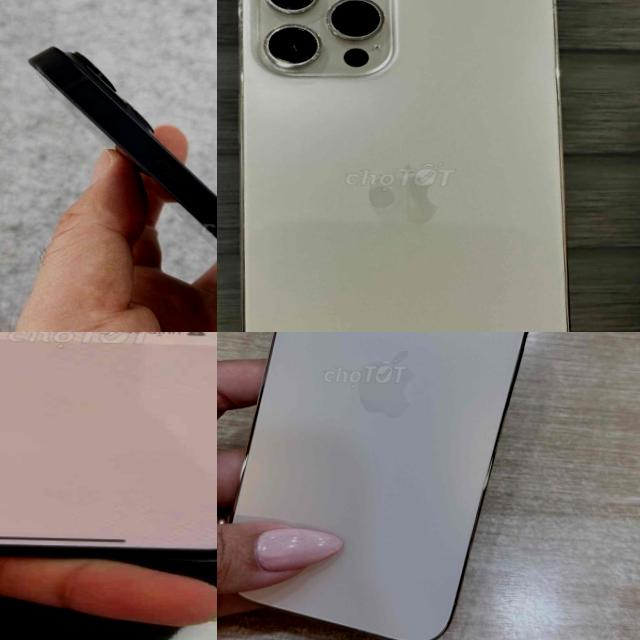gen_12_13: (225, 0, 578, 332)
gen_14: (222, 332, 564, 640), (22, 36, 217, 332)
gen_x_xs: (0, 332, 217, 579)
